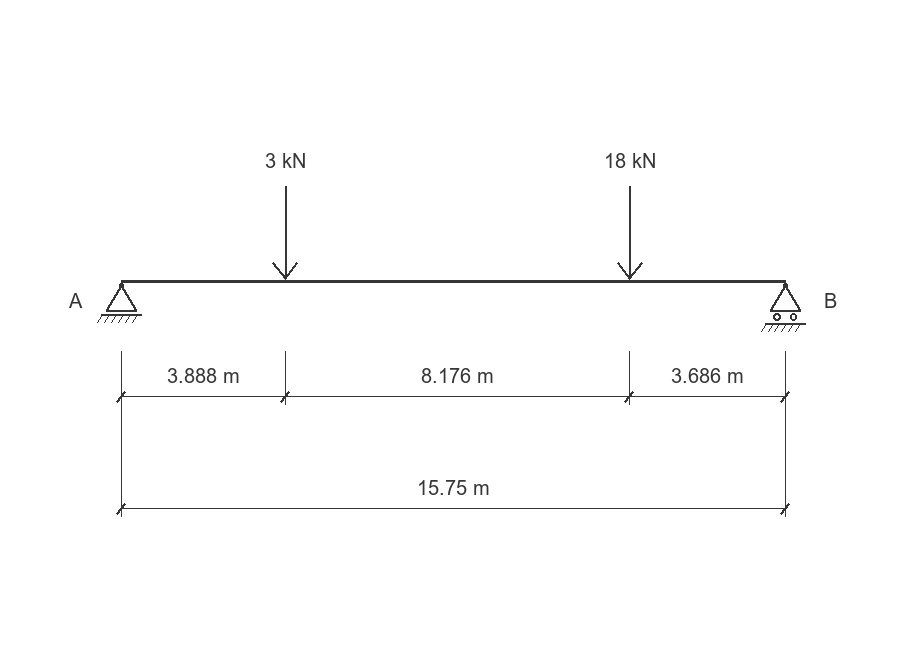pin_support: (97, 283, 142, 323)
point_load: (272, 186, 298, 280), (617, 186, 643, 280)
roller_support: (761, 283, 806, 332)
